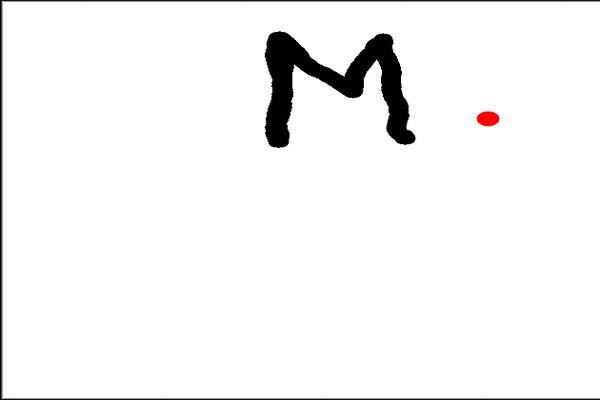M: (260, 28, 416, 147)
